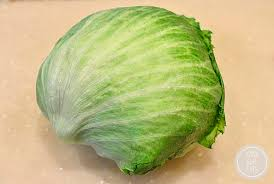lettuce: (33, 4, 220, 170)
